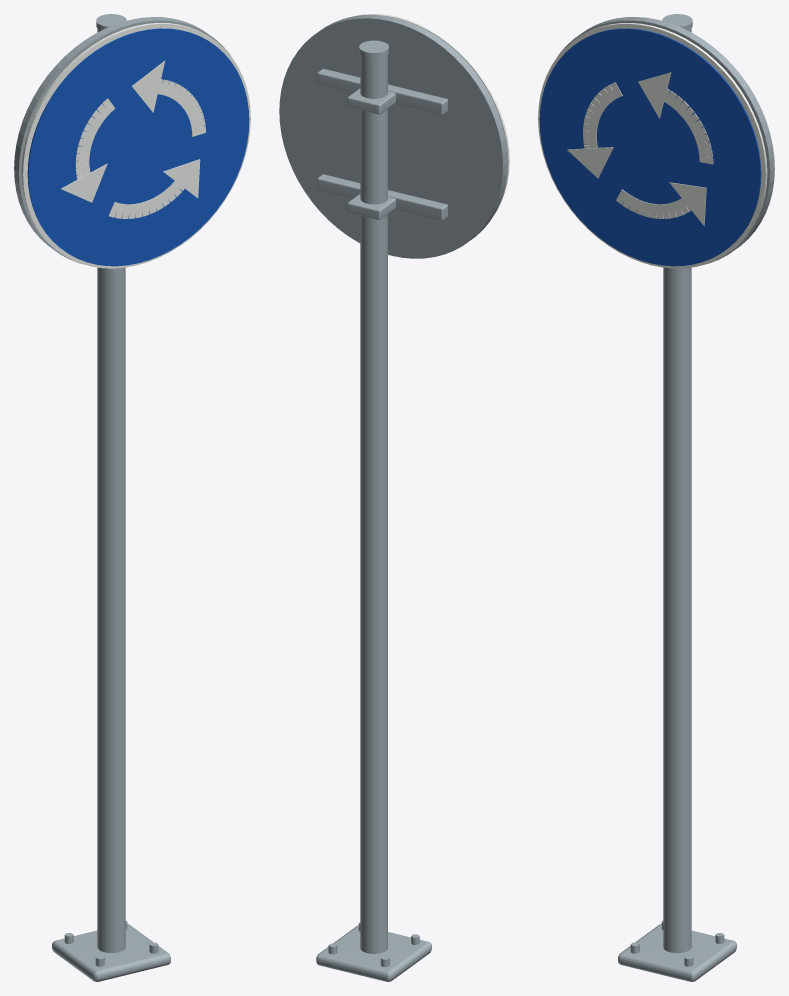
Rendered from DS_Sign_Roundabout.fbx.
3 views of the same model, side by side, from view 1: azimuth 30°, elevation 25°; view 2: azimuth 150°, elevation 25°; view 3: azimuth 330°, elevation 25° (orthographic). The views are drawn at different scales.
Visible parts, largest first — view 1: Face_Field.011, Post.011, BasePlate.011, Face_Border.011, Plate_Back.011, RoundaboutTip.001, RoundaboutTip, RoundaboutTip.002; view 2: Plate_Back.011, Post.011, BasePlate.011, RearRail.023, RearRail.022, PostClamp.023, PostClamp.022, Face_Border.011; view 3: Face_Field.011, Post.011, BasePlate.011, Face_Border.011, Plate_Back.011, RoundaboutTip.002, RoundaboutTip, RoundaboutTip.001.
Part boxes in pixels (bbox=[...]): Face_Field.011: bbox=[27, 28, 249, 266]; Post.011: bbox=[97, 28, 125, 952]; BasePlate.011: bbox=[52, 924, 170, 981]; Face_Border.011: bbox=[21, 23, 250, 268]; Plate_Back.011: bbox=[14, 17, 230, 263]; RoundaboutTip.001: bbox=[61, 163, 107, 202]; RoundaboutTip: bbox=[132, 61, 164, 112]; RoundaboutTip.002: bbox=[163, 159, 200, 198]; Plate_Back.011: bbox=[279, 15, 507, 258]; Post.011: bbox=[360, 55, 387, 953]; BasePlate.011: bbox=[316, 925, 431, 981]; RearRail.023: bbox=[317, 68, 448, 115]; RearRail.022: bbox=[317, 174, 448, 220]; PostClamp.023: bbox=[347, 88, 395, 114]; PostClamp.022: bbox=[347, 194, 395, 219]; Face_Border.011: bbox=[354, 14, 509, 212]; Face_Field.011: bbox=[539, 28, 761, 266]; Post.011: bbox=[663, 28, 691, 952]; BasePlate.011: bbox=[618, 924, 736, 981]; Face_Border.011: bbox=[538, 23, 767, 268]; Plate_Back.011: bbox=[558, 17, 774, 263]; RoundaboutTip.002: bbox=[669, 182, 706, 226]; RoundaboutTip: bbox=[638, 72, 671, 118]; RoundaboutTip.001: bbox=[567, 147, 613, 178].
Bounding box in the file's own units: 71 × 281 × 28.
